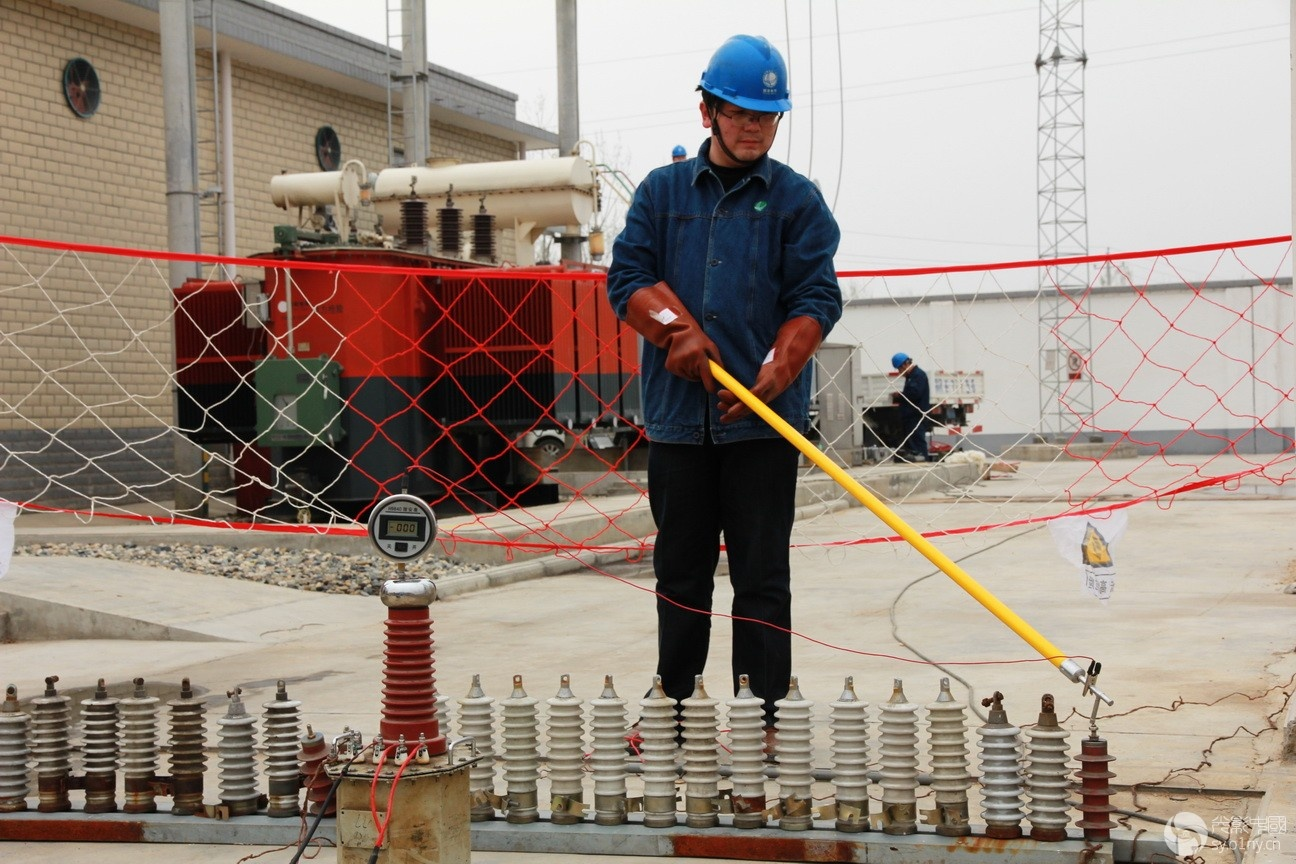blue: (698, 34, 790, 160), (890, 350, 912, 374), (670, 144, 687, 164)
